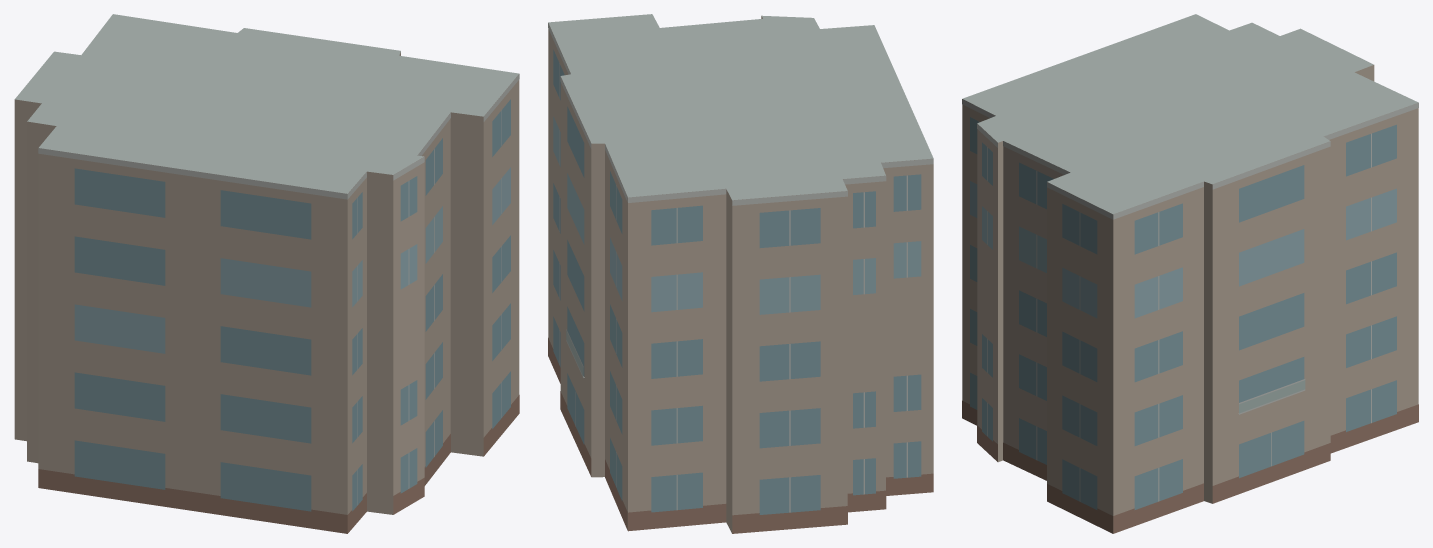
Rendered from survey-upis-32511452.glb.
3 views of the same model, side by side, from view 1: azimuth 30°, elevation 25°; view 2: azimuth 150°, elevation 25°; view 3: azimuth 270°, elevation 25° (orthographic). The views are drawn at different scales.
Visible parts, largest first — view 1: survey-upis-32511452.tmp; view 2: survey-upis-32511452.tmp; view 3: survey-upis-32511452.tmp.
Boxes of the visible parts, box(x1,y1,x2,y2) form: survey-upis-32511452.tmp: box(14, 14, 519, 533); survey-upis-32511452.tmp: box(548, 14, 933, 533); survey-upis-32511452.tmp: box(962, 14, 1418, 533).
Bounding box in the file's own units: 19.44 × 14.45 × 18.72.
